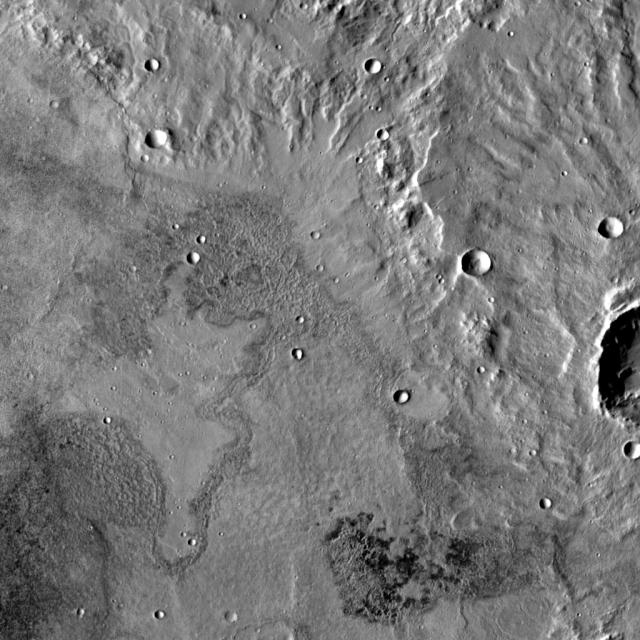crater: (488, 311, 574, 388), (462, 251, 492, 278), (617, 371, 640, 399), (599, 218, 625, 242), (146, 132, 167, 151), (624, 443, 640, 461), (366, 60, 383, 76), (394, 393, 409, 407), (145, 61, 160, 74), (538, 498, 551, 511), (188, 256, 202, 268), (226, 613, 238, 625), (377, 132, 390, 142), (292, 352, 304, 362), (154, 613, 164, 623), (52, 102, 62, 112), (312, 234, 322, 242), (580, 138, 589, 146), (472, 360, 480, 368), (189, 542, 197, 550), (309, 260, 317, 268), (301, 4, 309, 12), (199, 241, 207, 248), (290, 312, 298, 319), (78, 612, 86, 619), (232, 8, 240, 15), (522, 444, 530, 451), (142, 158, 149, 165), (98, 414, 105, 421), (604, 272, 612, 278)
